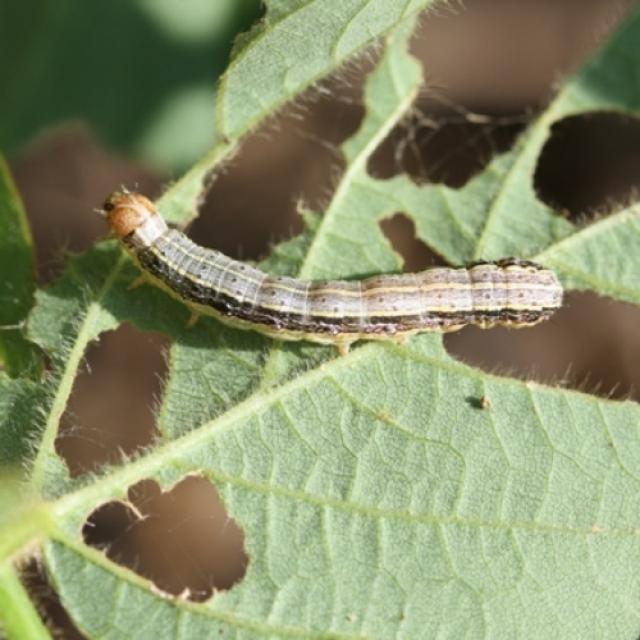armyworm: (92, 180, 565, 347)
